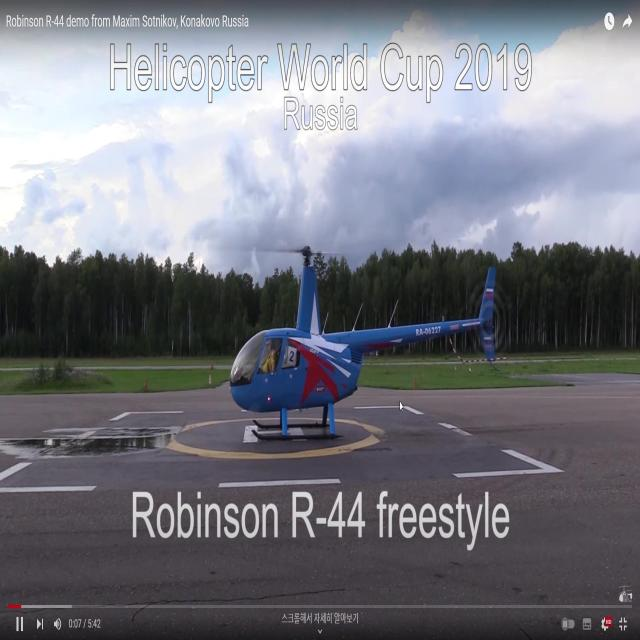CIV_HELO: (228, 245, 498, 444)
